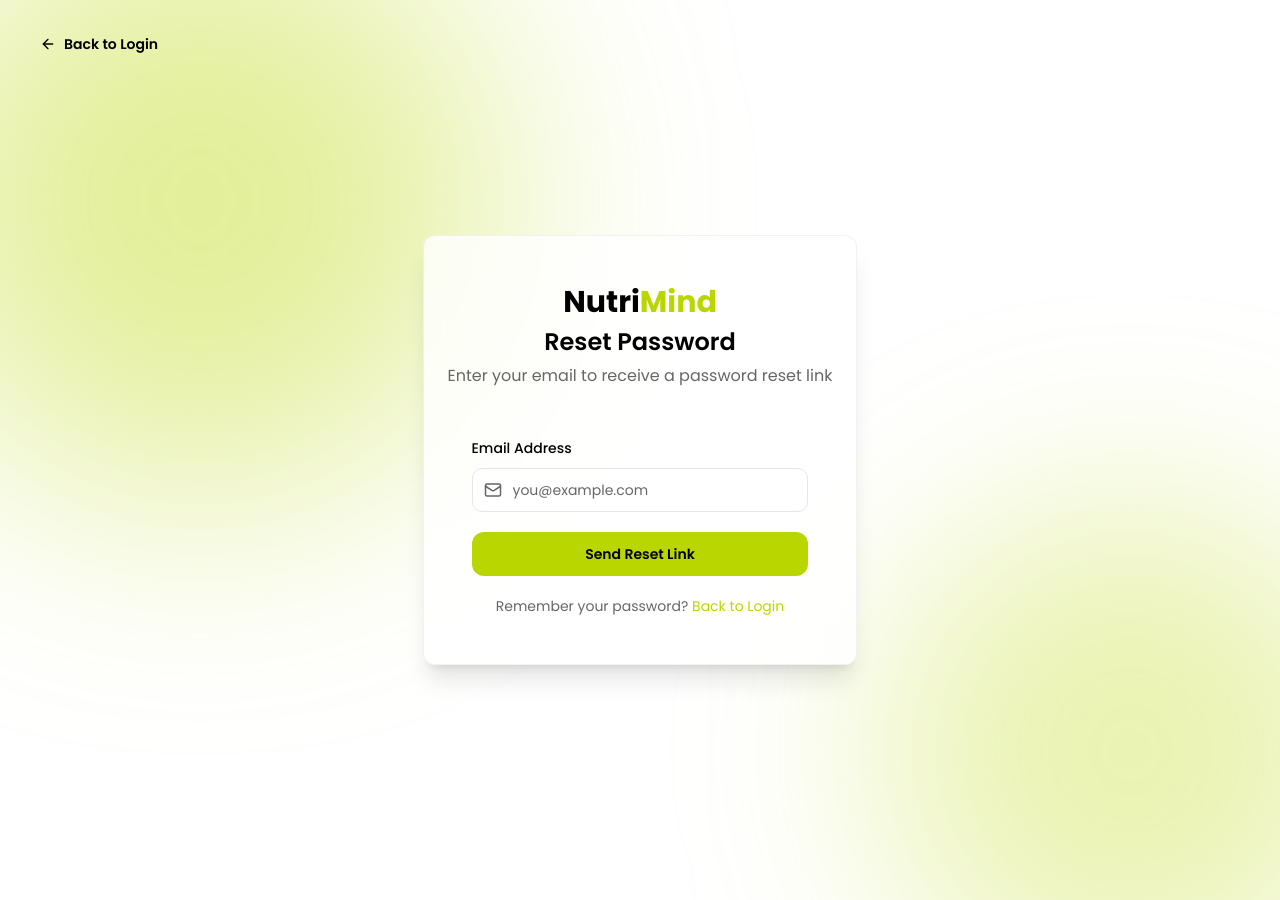
Test case: ResetPassword Component › should show loading state while sending reset email
The width and height of the screenshot is (1280, 900).
Type "adib@example.com" into the field with placeholder "you@example.com" at (640, 490), box [472,468,808,512]
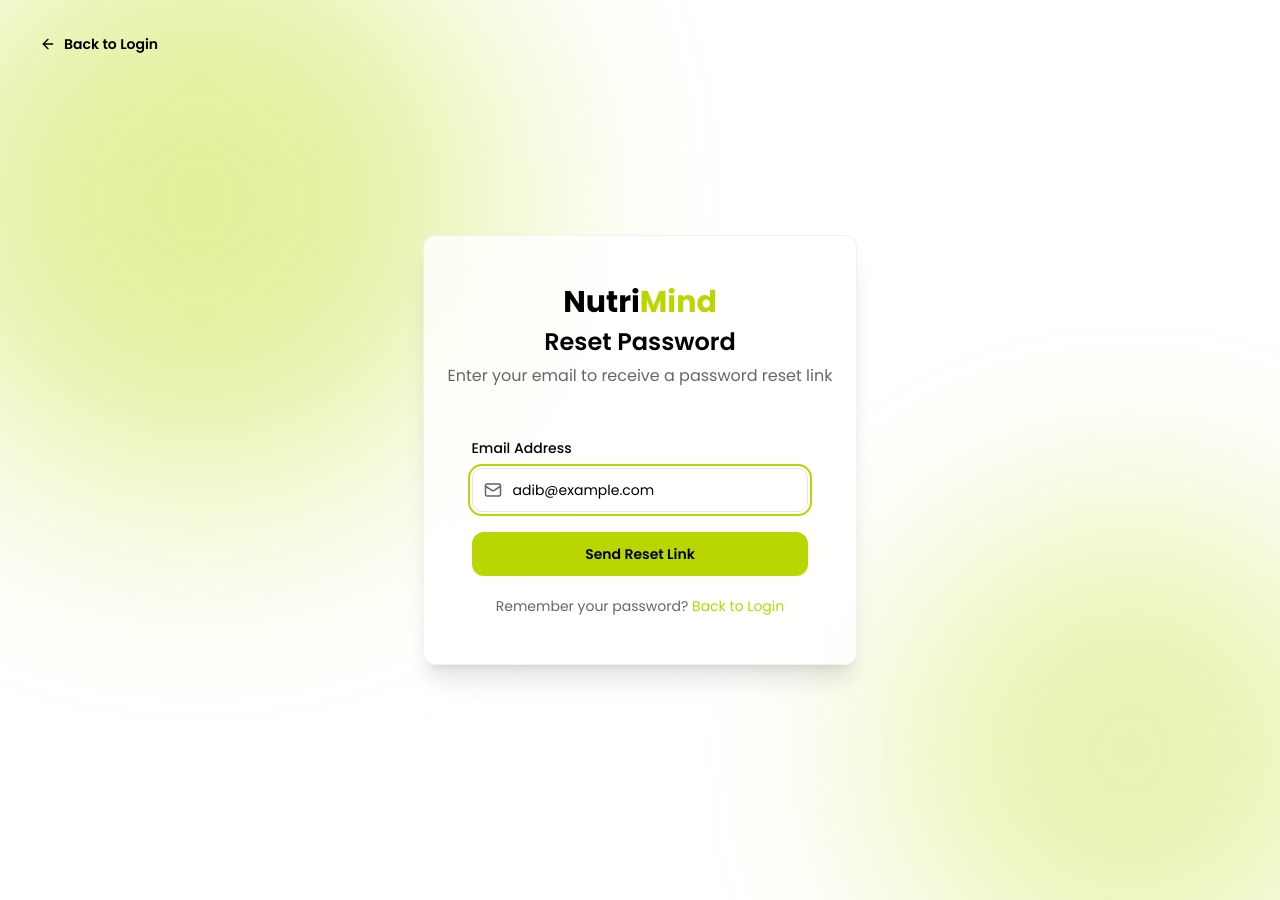
Click the button "Send Reset Link" at (640, 554), box [472,532,808,576]
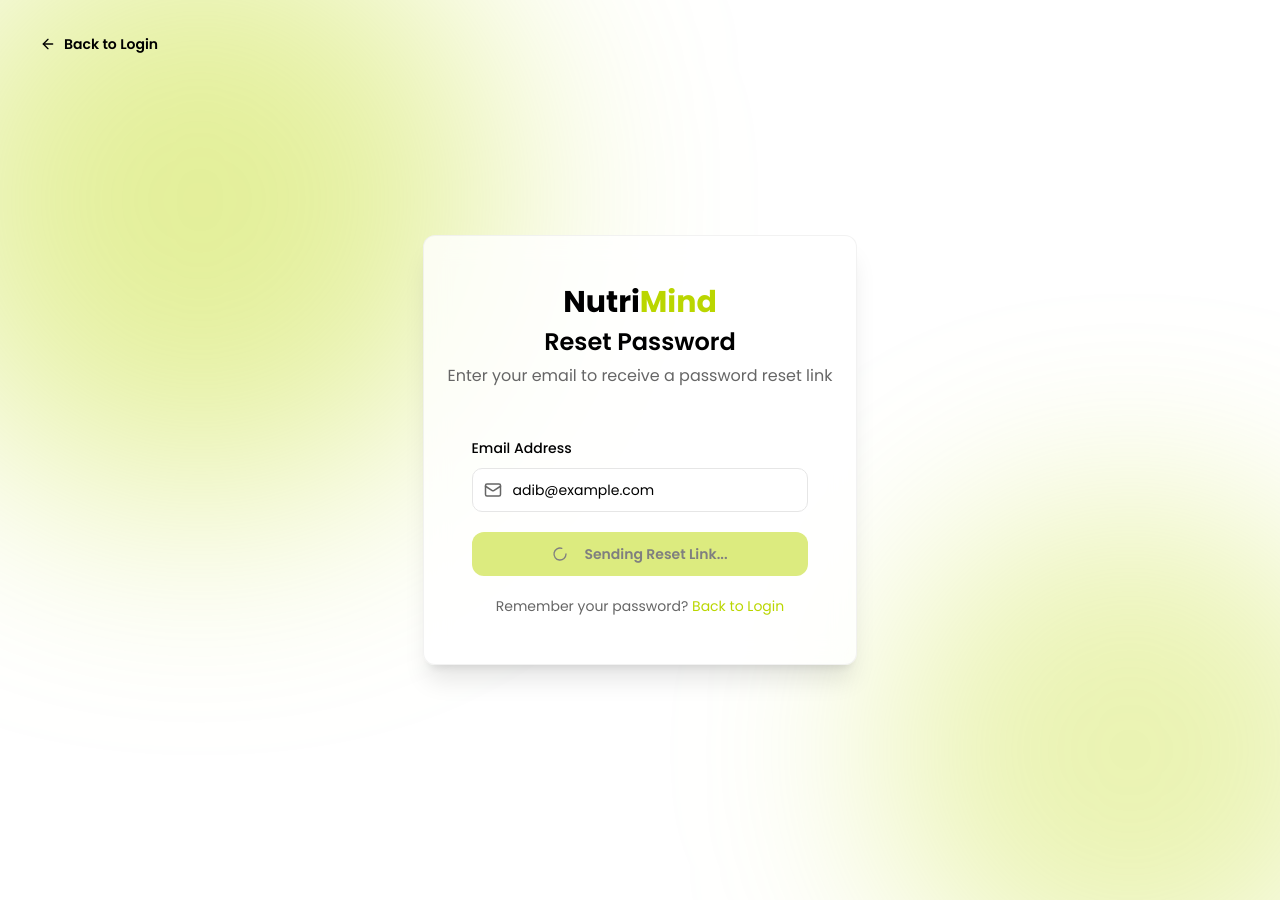
Expected: the button "Sending Reset Link..." is disabled, [472,532,808,576]
